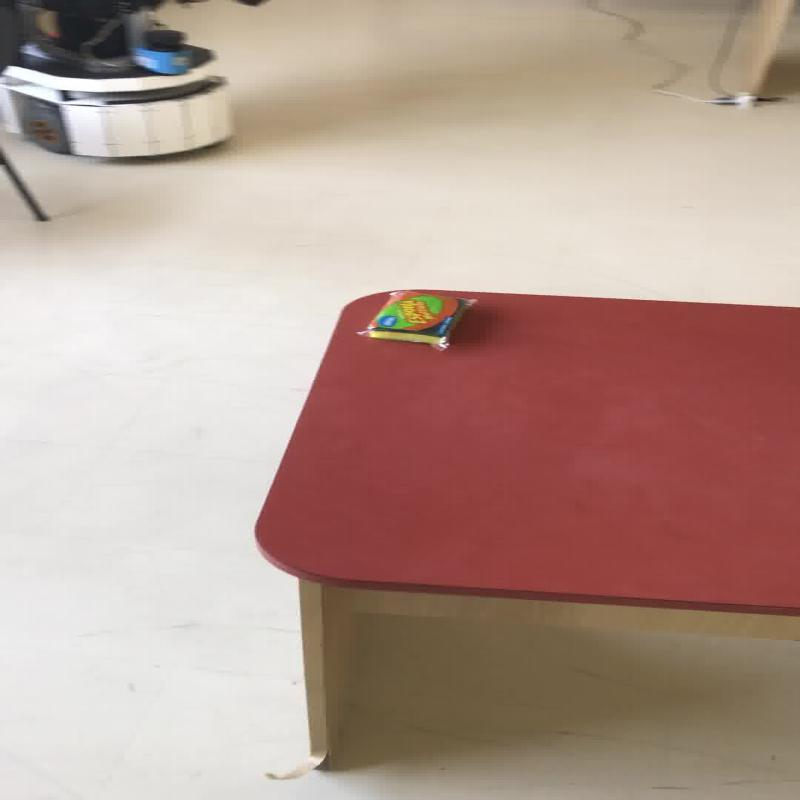sponge: (354, 289, 477, 351)
